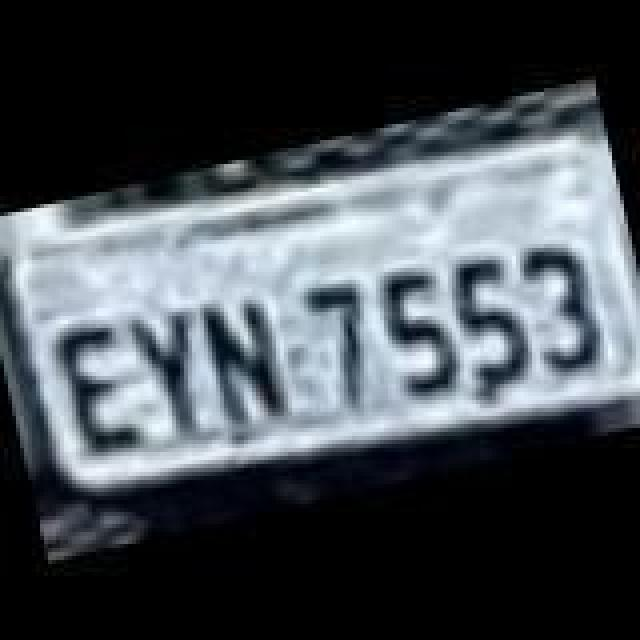3: (508, 232, 612, 384)
5: (440, 244, 536, 396), (378, 260, 470, 404)
7: (296, 272, 392, 416)
E: (50, 312, 150, 456)
N: (194, 286, 294, 434)
Y: (122, 306, 222, 446)
